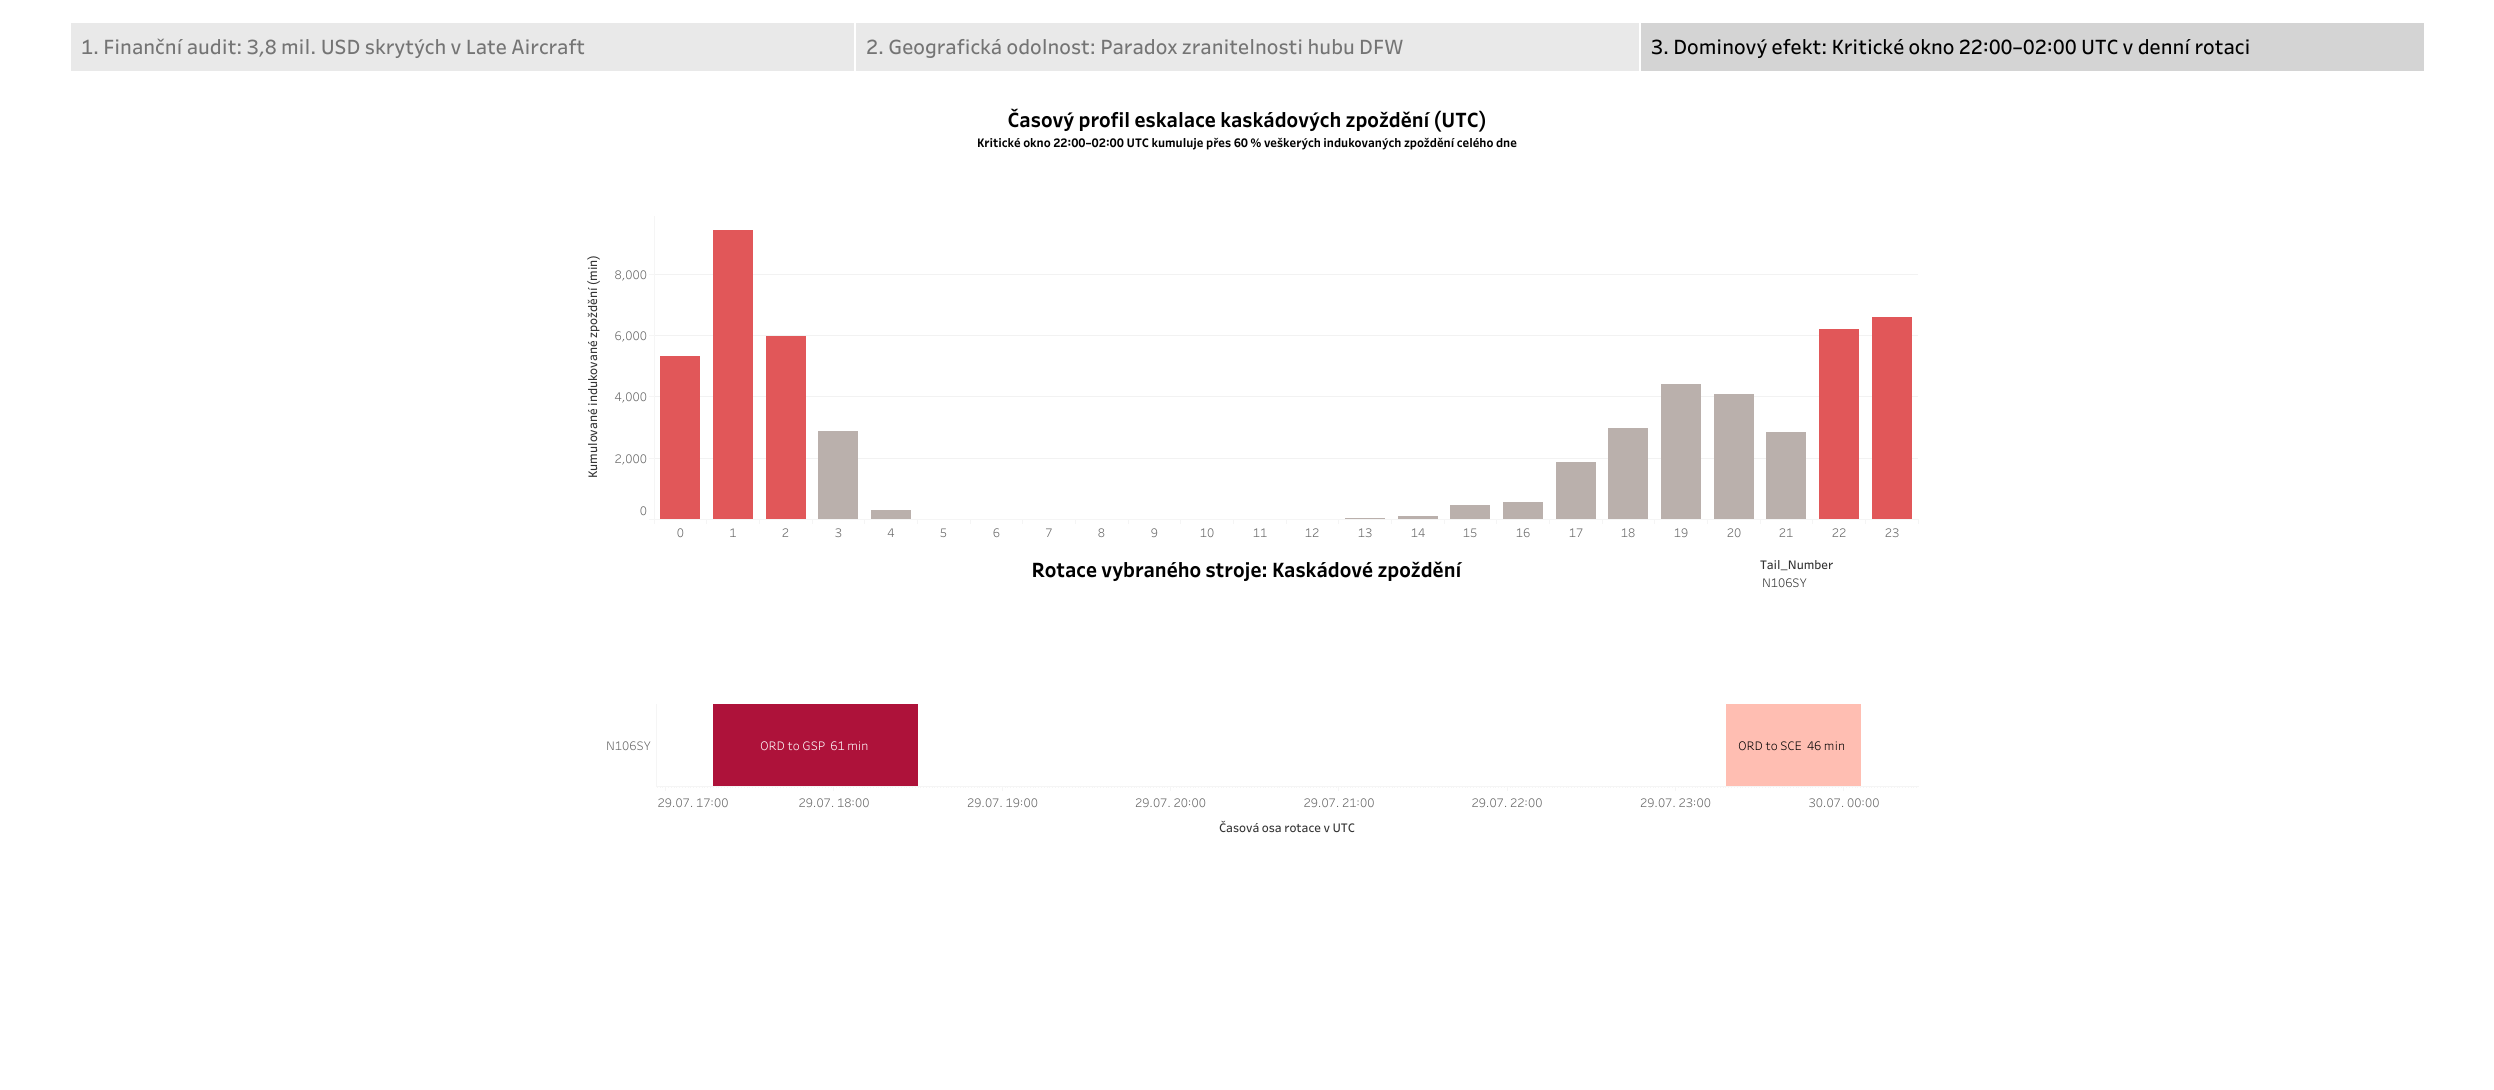

This screenshot's page, from the dashboard's own definition file:
{"tool":"tableau","page":{"name":"Dashboard 3","canvas":[1366,768],"ordinal":2},"visuals":[{"type":"worksheet","title":"Hourly_Propagation_Timeline","mark":"Bar","rows":["DepDelay"],"cols":["CRSDep_dt_utc"],"box":[8,8,1350,450]},{"type":"worksheet","title":"Gantt_Rotation_N101DQ","mark":"GanttBar","rows":["Tail_Number"],"cols":["CRSDep_dt_utc"],"box":[8,458,1350,302]},{"type":"filter","title":"Gantt_Rotation_N101DQ","param":"[federated.0urb70y1wrgivw13grx061fi0s07].[none:Tail_Number:nk]","box":[1196,467,160,44]}]}

Visuals, with their boxes on the page's 1366x768 design canvas (x1, y1, x2, y2). These are canvas units, not pixel positions in the 2494x1090 screenshot, which may show the page scaled, cropped or inside an application window:
"Hourly_Propagation_Timeline" worksheet (Bar marks): detection(8, 8, 1358, 458)
"Gantt_Rotation_N101DQ" worksheet (GanttBar marks): detection(8, 458, 1358, 760)
"Gantt_Rotation_N101DQ" filter: detection(1196, 467, 1356, 511)
